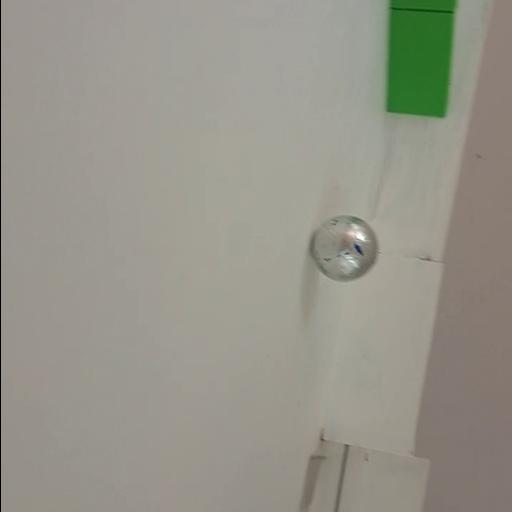alive: (308, 212, 380, 286)
